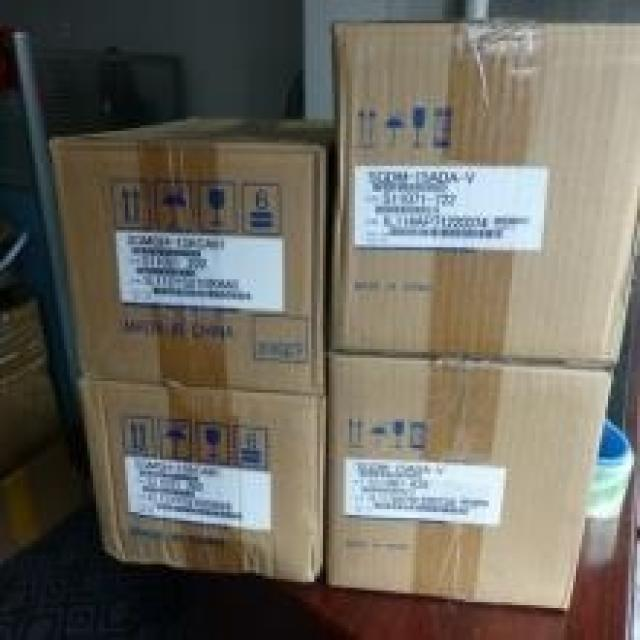box: (329, 20, 640, 367), (49, 116, 335, 393), (326, 352, 617, 614), (79, 381, 326, 582)
